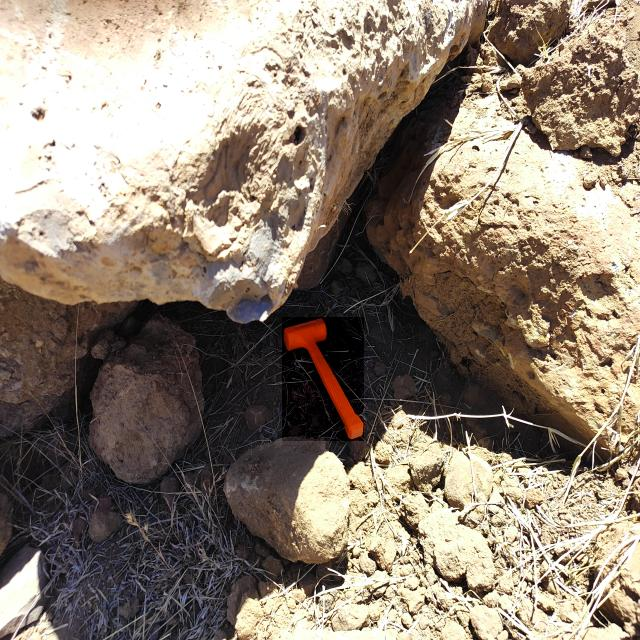Orange_hammer: (282, 317, 364, 441)
